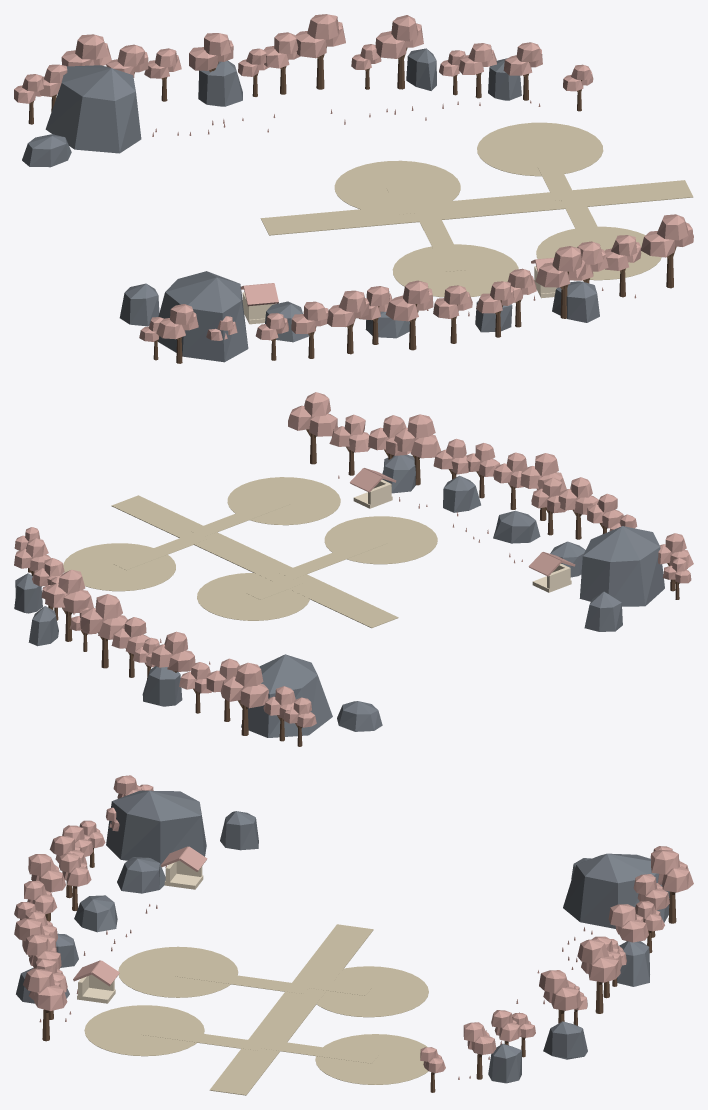
The model's file is Grounds_CelestialSummit.glb.
The picture shows the model from 3 angles, top to bottom: view 1: azimuth 30°, elevation 25°; view 2: azimuth 150°, elevation 25°; view 3: azimuth 270°, elevation 25°; orthographic projection. The views are drawn at different scales.
Visible parts, largest first — view 1: Grounds_CelestialSummit_CelestialSummit_path_-4_1, Grounds_CelestialSummit_CelestialSummit_path_-4_0, Grounds_CelestialSummit_CelestialSummit_dark_-5_2, Grounds_CelestialSummit_CelestialSummit_leaf_-5_0, Grounds_CelestialSummit_CelestialSummit_leaf_-4_2, Grounds_CelestialSummit_CelestialSummit_dark_-6_0, Grounds_CelestialSummit_CelestialSummit_leaf_-4_0, Grounds_CelestialSummit_CelestialSummit_path_-3_1, Grounds_CelestialSummit_CelestialSummit_leaf_-5_2, Grounds_CelestialSummit_CelestialSummit_dark_-4_2, Grounds_CelestialSummit_CelestialSummit_path_-5_1, Grounds_CelestialSummit_CelestialSummit_path_-3_0 (+9 smaller); view 2: Grounds_CelestialSummit_CelestialSummit_path_-4_0, Grounds_CelestialSummit_CelestialSummit_path_-4_1, Grounds_CelestialSummit_CelestialSummit_dark_-6_0, Grounds_CelestialSummit_CelestialSummit_leaf_-4_0, Grounds_CelestialSummit_CelestialSummit_leaf_-5_0, Grounds_CelestialSummit_CelestialSummit_leaf_-4_2, Grounds_CelestialSummit_CelestialSummit_dark_-5_2, Grounds_CelestialSummit_CelestialSummit_leaf_-5_2, Grounds_CelestialSummit_CelestialSummit_path_-3_1, Grounds_CelestialSummit_CelestialSummit_dark_-4_2, Grounds_CelestialSummit_CelestialSummit_dark_-4_0, Grounds_CelestialSummit_CelestialSummit_path_-5_1 (+12 smaller); view 3: Grounds_CelestialSummit_CelestialSummit_path_-4_0, Grounds_CelestialSummit_CelestialSummit_path_-4_1, Grounds_CelestialSummit_CelestialSummit_dark_-6_0, Grounds_CelestialSummit_CelestialSummit_leaf_-5_0, Grounds_CelestialSummit_CelestialSummit_dark_-5_2, Grounds_CelestialSummit_CelestialSummit_leaf_-4_2, Grounds_CelestialSummit_CelestialSummit_path_-3_1, Grounds_CelestialSummit_CelestialSummit_leaf_-4_0, Grounds_CelestialSummit_CelestialSummit_leaf_-5_2, Grounds_CelestialSummit_CelestialSummit_dark_-5_0, Grounds_CelestialSummit_CelestialSummit_dark_-4_2, Grounds_CelestialSummit_CelestialSummit_path_-5_1 (+9 smaller).
Boxes of the visible parts, <box> form: Grounds_CelestialSummit_CelestialSummit_path_-4_1: <box>334,148,576,222</box>; Grounds_CelestialSummit_CelestialSummit_path_-4_0: <box>392,198,661,297</box>; Grounds_CelestialSummit_CelestialSummit_dark_-5_2: <box>22,65,141,167</box>; Grounds_CelestialSummit_CelestialSummit_leaf_-5_0: <box>241,280,511,340</box>; Grounds_CelestialSummit_CelestialSummit_leaf_-4_2: <box>189,14,465,132</box>; Grounds_CelestialSummit_CelestialSummit_dark_-6_0: <box>119,271,248,362</box>; Grounds_CelestialSummit_CelestialSummit_leaf_-4_0: <box>501,214,693,305</box>; Grounds_CelestialSummit_CelestialSummit_path_-3_1: <box>477,122,603,176</box>; Grounds_CelestialSummit_CelestialSummit_leaf_-5_2: <box>14,34,213,136</box>; Grounds_CelestialSummit_CelestialSummit_dark_-4_2: <box>198,48,436,106</box>; Grounds_CelestialSummit_CelestialSummit_path_-5_1: <box>260,206,412,235</box>; Grounds_CelestialSummit_CelestialSummit_path_-3_0: <box>555,180,693,209</box>; Grounds_CelestialSummit_CelestialSummit_path_-4_0: <box>190,477,437,579</box>; Grounds_CelestialSummit_CelestialSummit_path_-4_1: <box>113,533,310,620</box>; Grounds_CelestialSummit_CelestialSummit_dark_-6_0: <box>579,526,664,631</box>; Grounds_CelestialSummit_CelestialSummit_leaf_-4_0: <box>288,392,481,508</box>; Grounds_CelestialSummit_CelestialSummit_leaf_-5_0: <box>453,443,637,576</box>; Grounds_CelestialSummit_CelestialSummit_leaf_-4_2: <box>45,569,210,671</box>; Grounds_CelestialSummit_CelestialSummit_dark_-5_2: <box>241,654,382,737</box>; Grounds_CelestialSummit_CelestialSummit_leaf_-5_2: <box>179,658,316,727</box>; Grounds_CelestialSummit_CelestialSummit_path_-3_1: <box>63,543,175,591</box>; Grounds_CelestialSummit_CelestialSummit_dark_-4_2: <box>28,606,182,706</box>; Grounds_CelestialSummit_CelestialSummit_dark_-4_0: <box>382,454,480,512</box>; Grounds_CelestialSummit_CelestialSummit_path_-5_1: <box>289,576,398,628</box>; Grounds_CelestialSummit_CelestialSummit_path_-4_0: <box>84,946,309,1056</box>; Grounds_CelestialSummit_CelestialSummit_path_-4_1: <box>250,966,428,1063</box>; Grounds_CelestialSummit_CelestialSummit_dark_-6_0: <box>106,790,258,864</box>; Grounds_CelestialSummit_CelestialSummit_leaf_-5_0: <box>14,820,207,955</box>; Grounds_CelestialSummit_CelestialSummit_dark_-5_2: <box>563,853,669,928</box>; Grounds_CelestialSummit_CelestialSummit_leaf_-4_2: <box>500,904,648,1044</box>; Grounds_CelestialSummit_CelestialSummit_path_-3_1: <box>315,1034,428,1084</box>; Grounds_CelestialSummit_CelestialSummit_leaf_-4_0: <box>14,911,119,1022</box>; Grounds_CelestialSummit_CelestialSummit_leaf_-5_2: <box>562,846,693,951</box>; Grounds_CelestialSummit_CelestialSummit_dark_-5_0: <box>74,857,165,932</box>; Grounds_CelestialSummit_CelestialSummit_dark_-4_2: <box>543,941,649,1059</box>; Grounds_CelestialSummit_CelestialSummit_path_-5_1: <box>294,924,373,982</box>.
Size of the model in its own units: 308 by 43.26 by 317.
